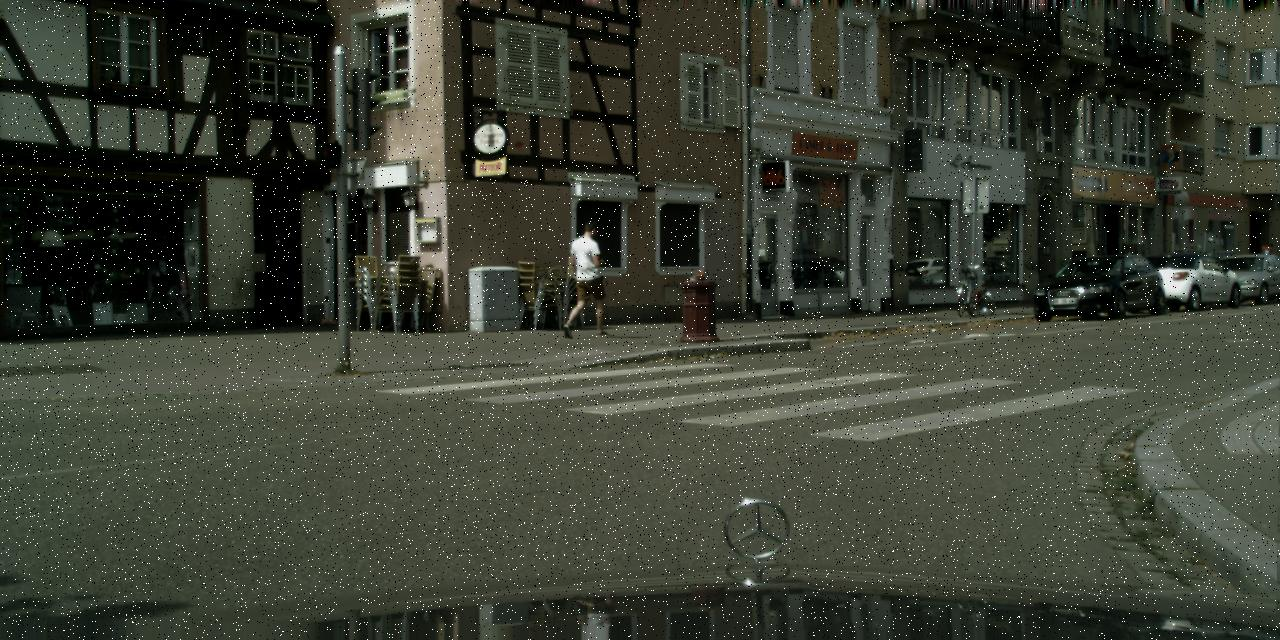ped: (565, 220, 613, 338)
